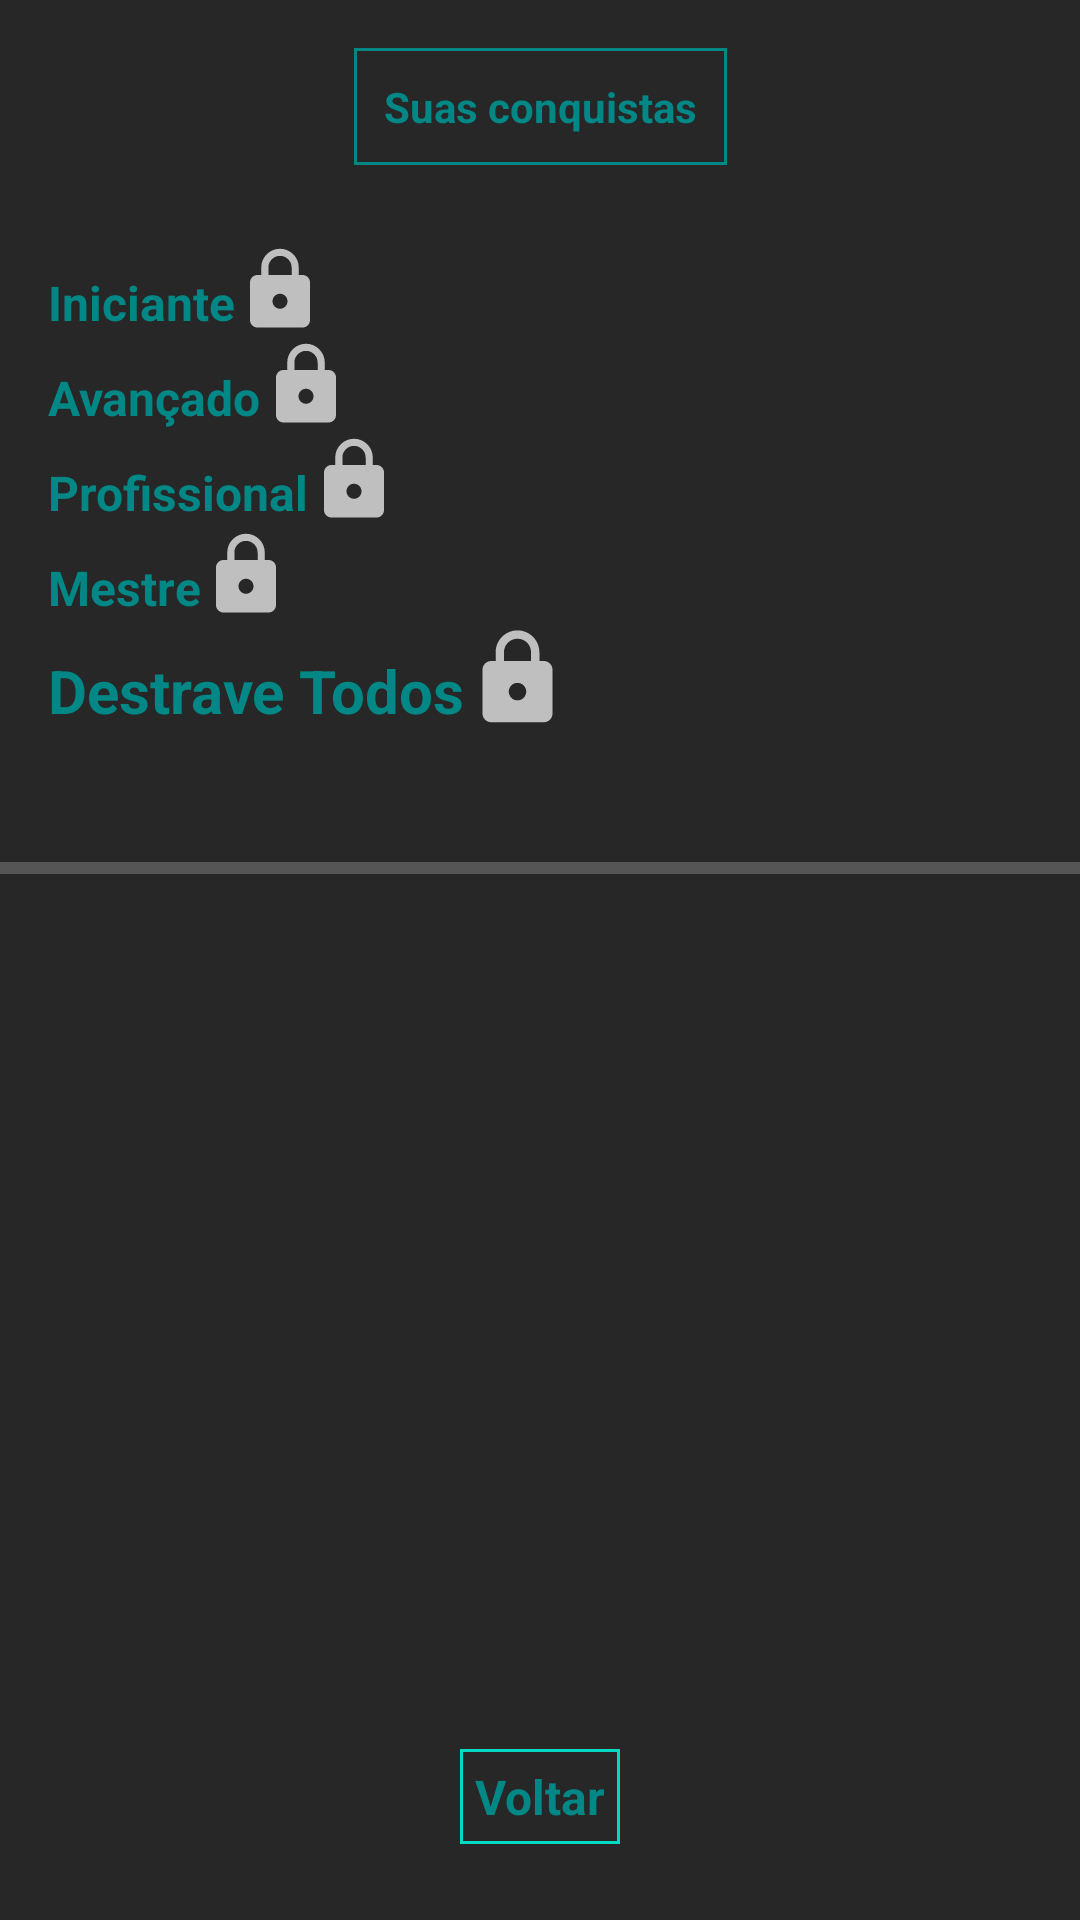

Icons on this 1080*1920 Android screen, each with the point to tap as (x,y):
lock: (280,288), (306,383), (354,478), (246,573), (517,676)
